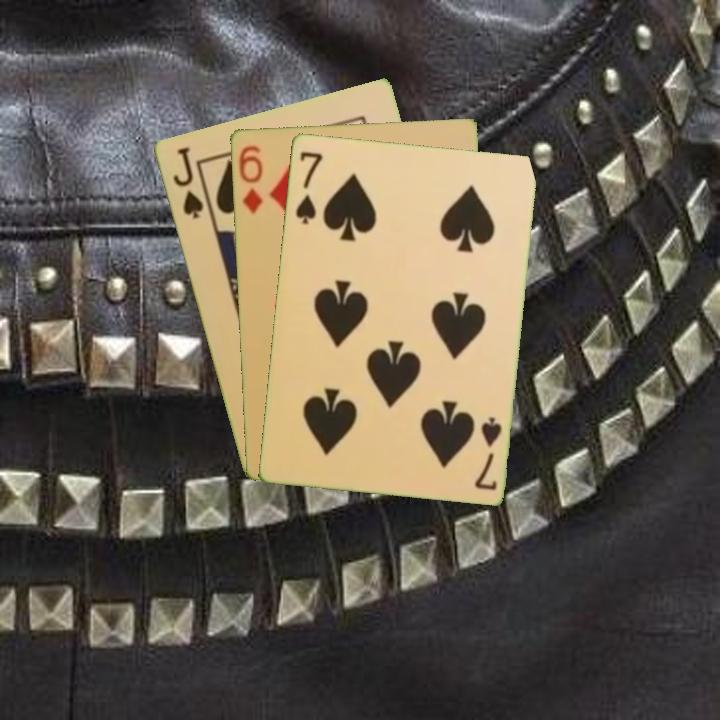6d: (235, 141, 265, 216)
7s: (471, 413, 504, 493), (292, 148, 325, 227)
Js: (169, 143, 206, 221)
